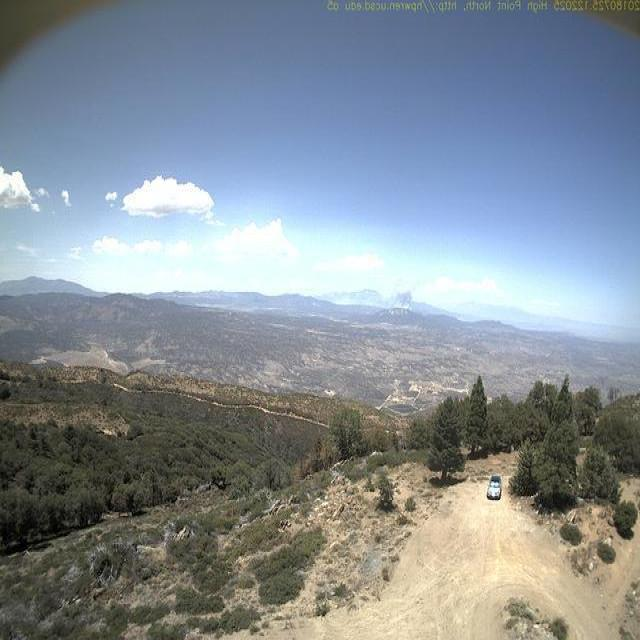smoke: (385, 287, 418, 316)
